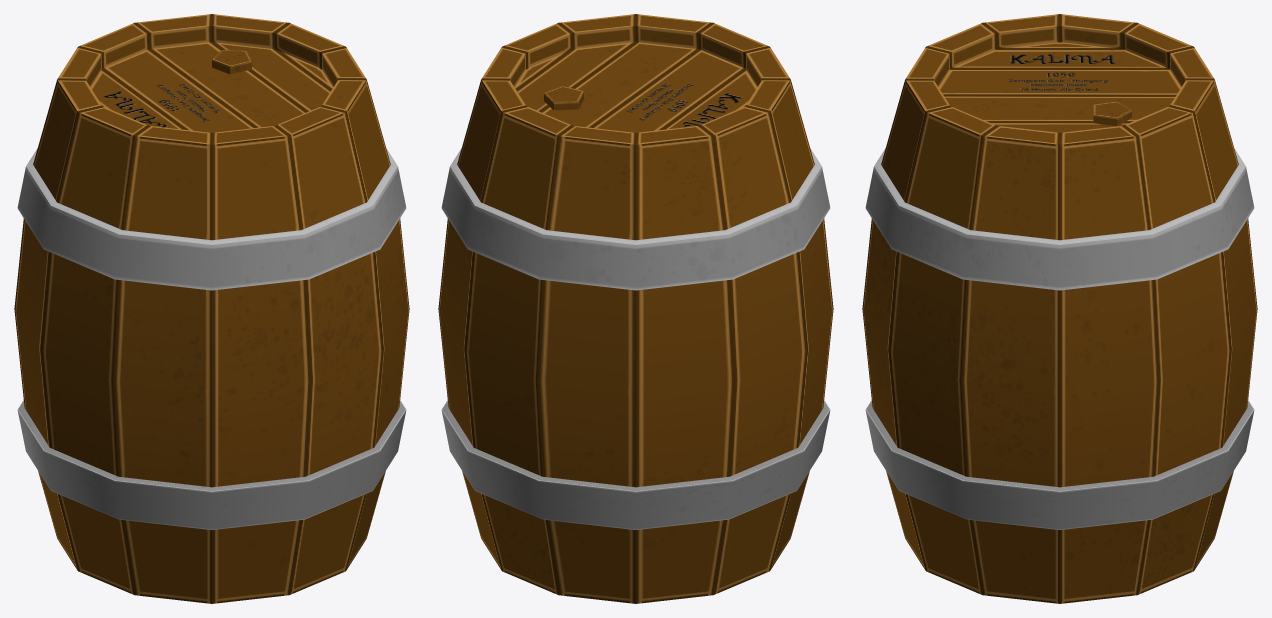
The model's file is barrel.obj.
The picture shows the model from 3 angles, left to right: view 1: azimuth 30°, elevation 25°; view 2: azimuth 150°, elevation 25°; view 3: azimuth 270°, elevation 25°; orthographic projection.
Parts seen in each view (by area): view 1: Barrel; view 2: Barrel; view 3: Barrel.
Boxes of the visible parts, x1,y1,x2,y2 form: Barrel: [14, 14, 409, 603]; Barrel: [438, 14, 833, 603]; Barrel: [862, 14, 1257, 603].
Bounding box in the file's own units: 0.702 × 0.9 × 0.702.
